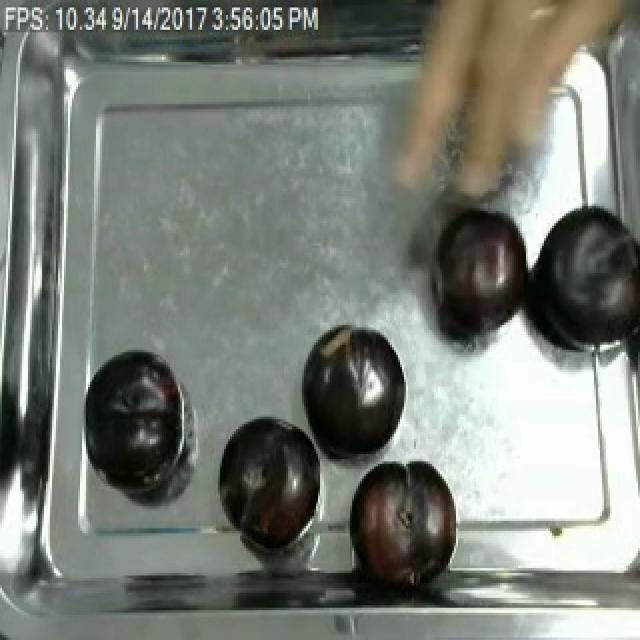Fruit: (520, 201, 640, 362), (78, 342, 190, 491), (424, 201, 538, 347), (296, 317, 408, 464), (344, 449, 460, 590), (216, 412, 328, 550)
